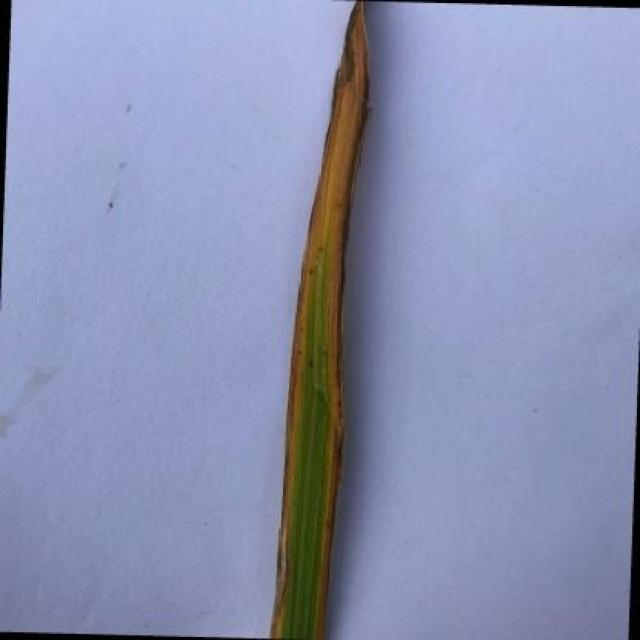Rice False Smut: (272, 2, 370, 640)
